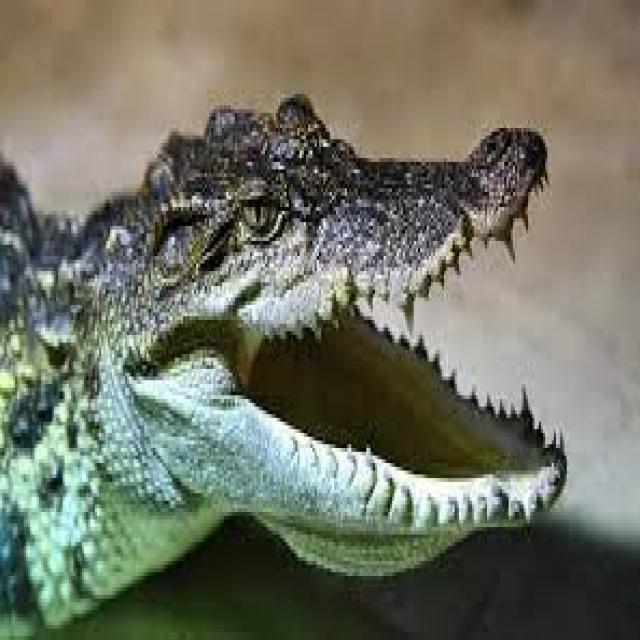Carnivorous: (0, 94, 567, 640)
